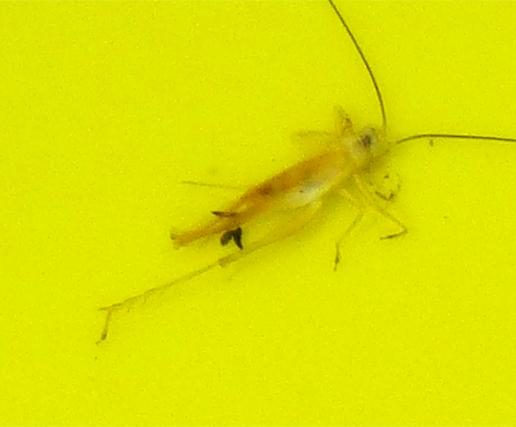Orthoptera: (100, 100, 416, 327)
